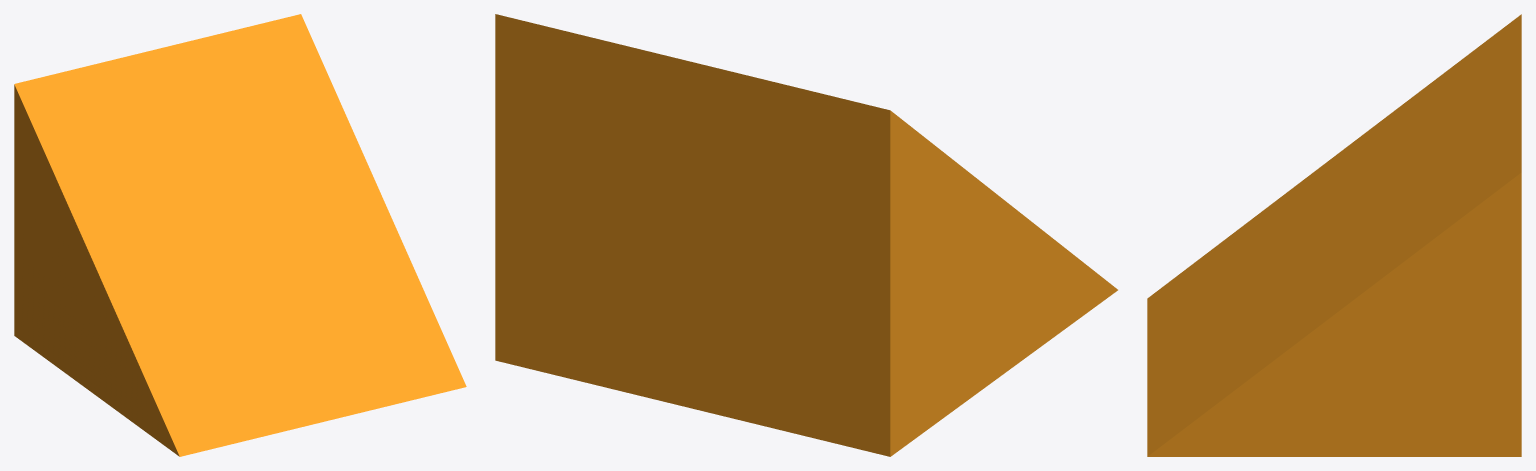
File: SM_Buildings_Ramp_40_1x1_01.fbx
3 views of the same model, side by side, from view 1: azimuth 30°, elevation 25°; view 2: azimuth 150°, elevation 25°; view 3: azimuth 270°, elevation 25° (orthographic). The views are drawn at different scales.
Parts seen in each view (by area): view 1: SM_Buildings_Ramp_40_1x1_01; view 2: SM_Buildings_Ramp_40_1x1_01; view 3: SM_Buildings_Ramp_40_1x1_01.
Boxes of the visible parts, x1,y1,x2,y2 form: SM_Buildings_Ramp_40_1x1_01: (14,14,466,456); SM_Buildings_Ramp_40_1x1_01: (495,14,1117,456); SM_Buildings_Ramp_40_1x1_01: (1147,14,1521,456).
Bounding box in the file's own units: 100 × 83.85 × 100.
